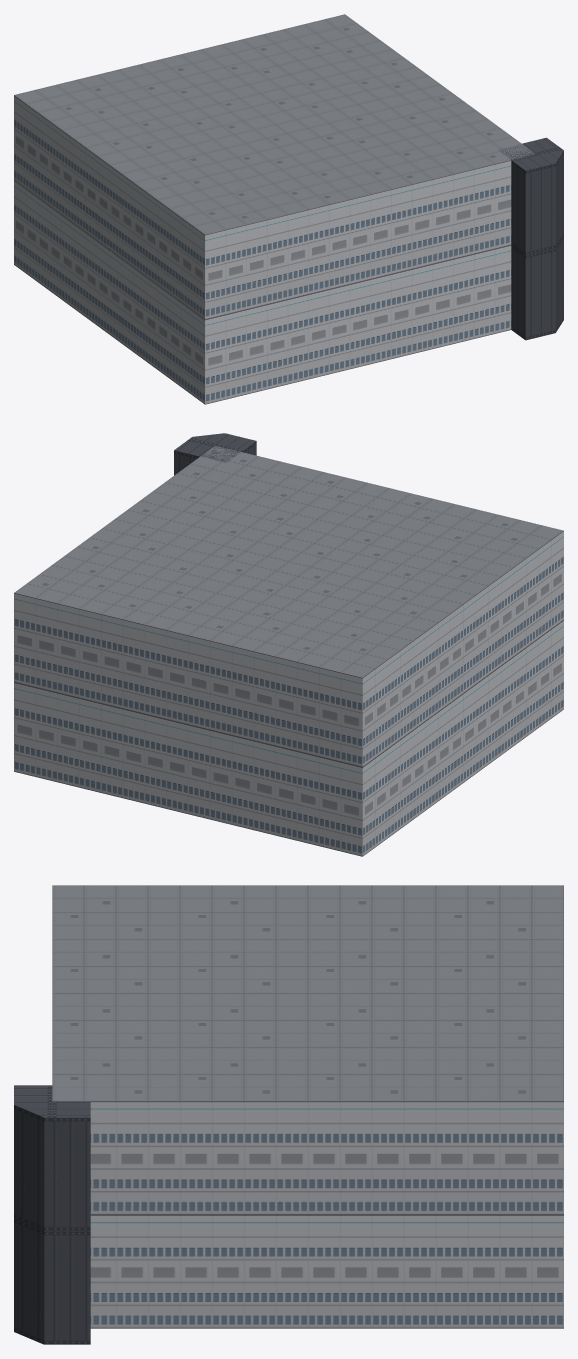
File: BLD_POD_Corner.fbx
3 views of the same model, one above another, from view 1: azimuth 30°, elevation 25°; view 2: azimuth 150°, elevation 25°; view 3: azimuth 270°, elevation 25° (orthographic). The views are drawn at different scales.
Visible parts, largest first — view 1: BLD_POD_Corner; view 2: BLD_POD_Corner; view 3: BLD_POD_Corner.
Part boxes in pixels (box(x1,y1,x2,y2)): BLD_POD_Corner: box(14, 14, 563, 404); BLD_POD_Corner: box(14, 433, 563, 856); BLD_POD_Corner: box(14, 885, 563, 1344).
Size of the model in its own units: 108 by 49 by 108.
